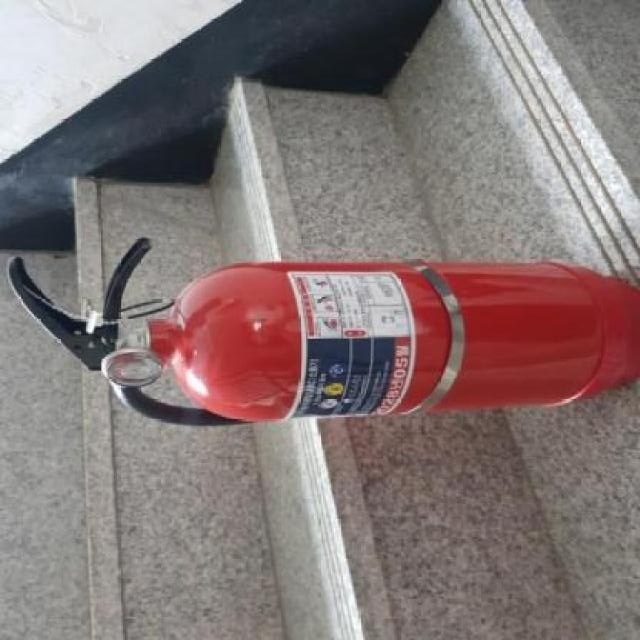fire extinguisher: (6, 237, 640, 426)
